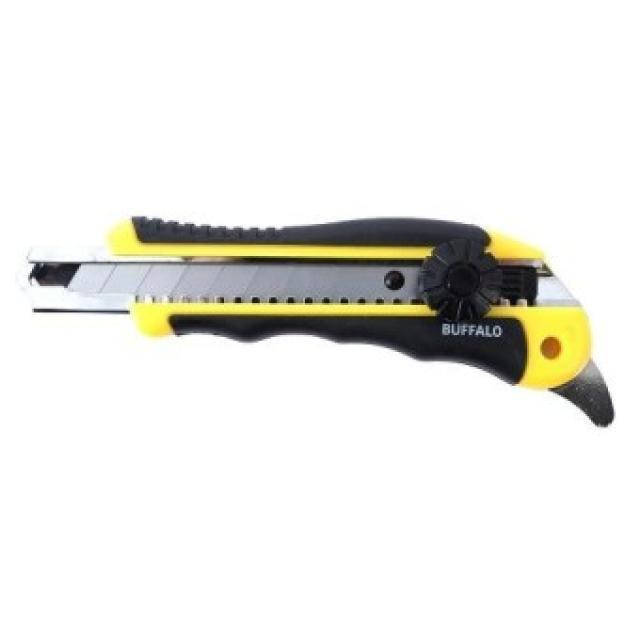cutter: (2, 196, 628, 435)
